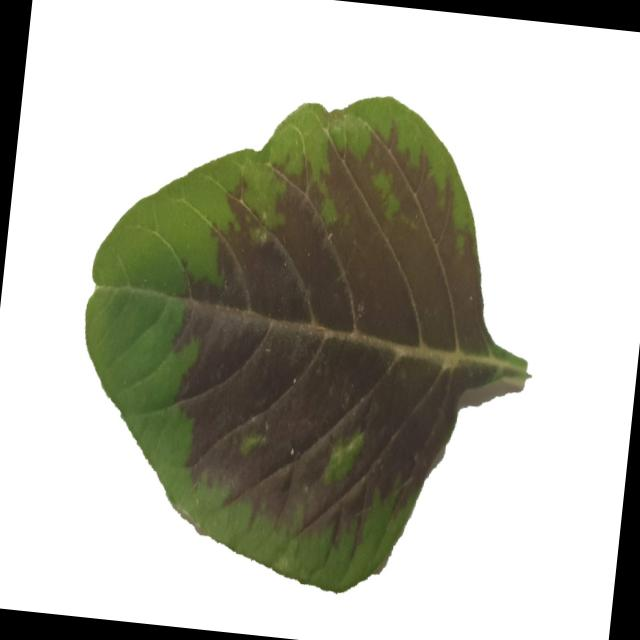Medicinal-Arive Dantu: (58, 60, 560, 610)
